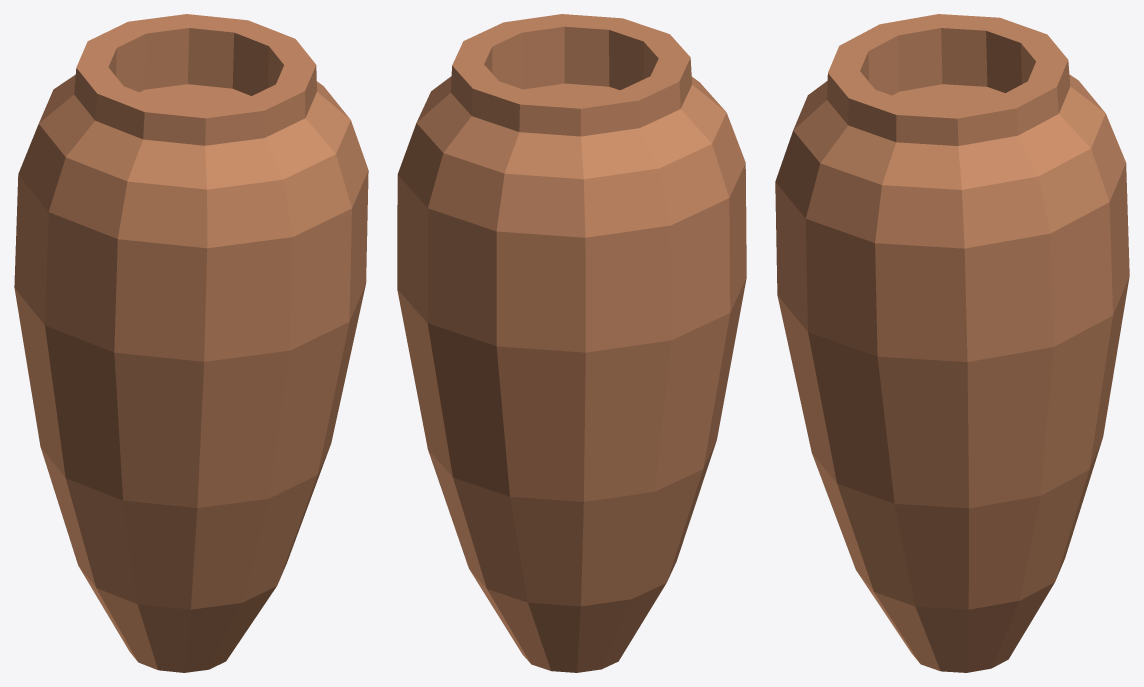
File: Vaso_2_low.fbx
3 renders of one model, left to right at view 1: azimuth 30°, elevation 25°; view 2: azimuth 150°, elevation 25°; view 3: azimuth 270°, elevation 25°, orthographic.
Visible parts, largest first — view 1: Vaso_2_low; view 2: Vaso_2_low; view 3: Vaso_2_low.
Boxes of the visible parts, x1,y1,x2,y2 form: Vaso_2_low: (14,14,368,672); Vaso_2_low: (397,14,746,672); Vaso_2_low: (775,14,1129,672).
Bounding box in the file's own units: 0.4368 × 0.8083 × 0.4378.
